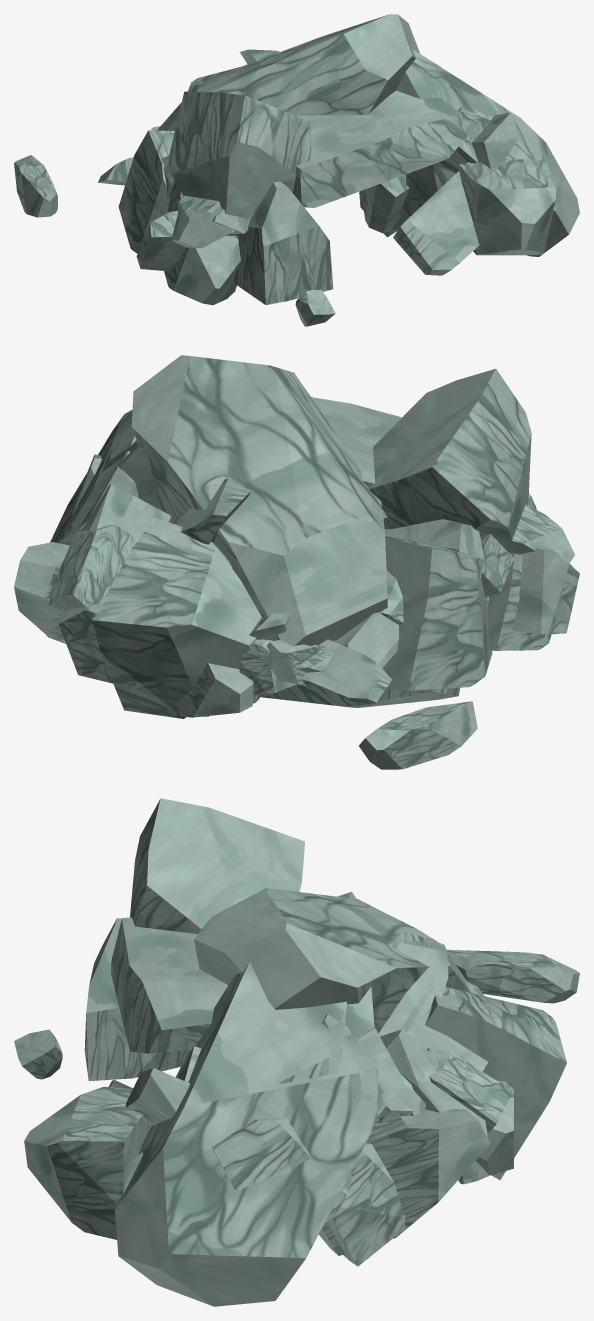
The model's file is BearCave.fbx.
The picture shows the model from 3 angles, top to bottom: view 1: azimuth 30°, elevation 25°; view 2: azimuth 150°, elevation 25°; view 3: azimuth 270°, elevation 25°; orthographic projection. The views are drawn at different scales.
Parts seen in each view (by area): view 1: Stone.105; view 2: Stone.105; view 3: Stone.105.
Part boxes in pixels (bbox=[...]): Stone.105: bbox=[14, 14, 579, 326]; Stone.105: bbox=[14, 355, 579, 769]; Stone.105: bbox=[14, 798, 579, 1306].
Bounding box in the file's own units: 16.23 × 8.58 × 14.18.
